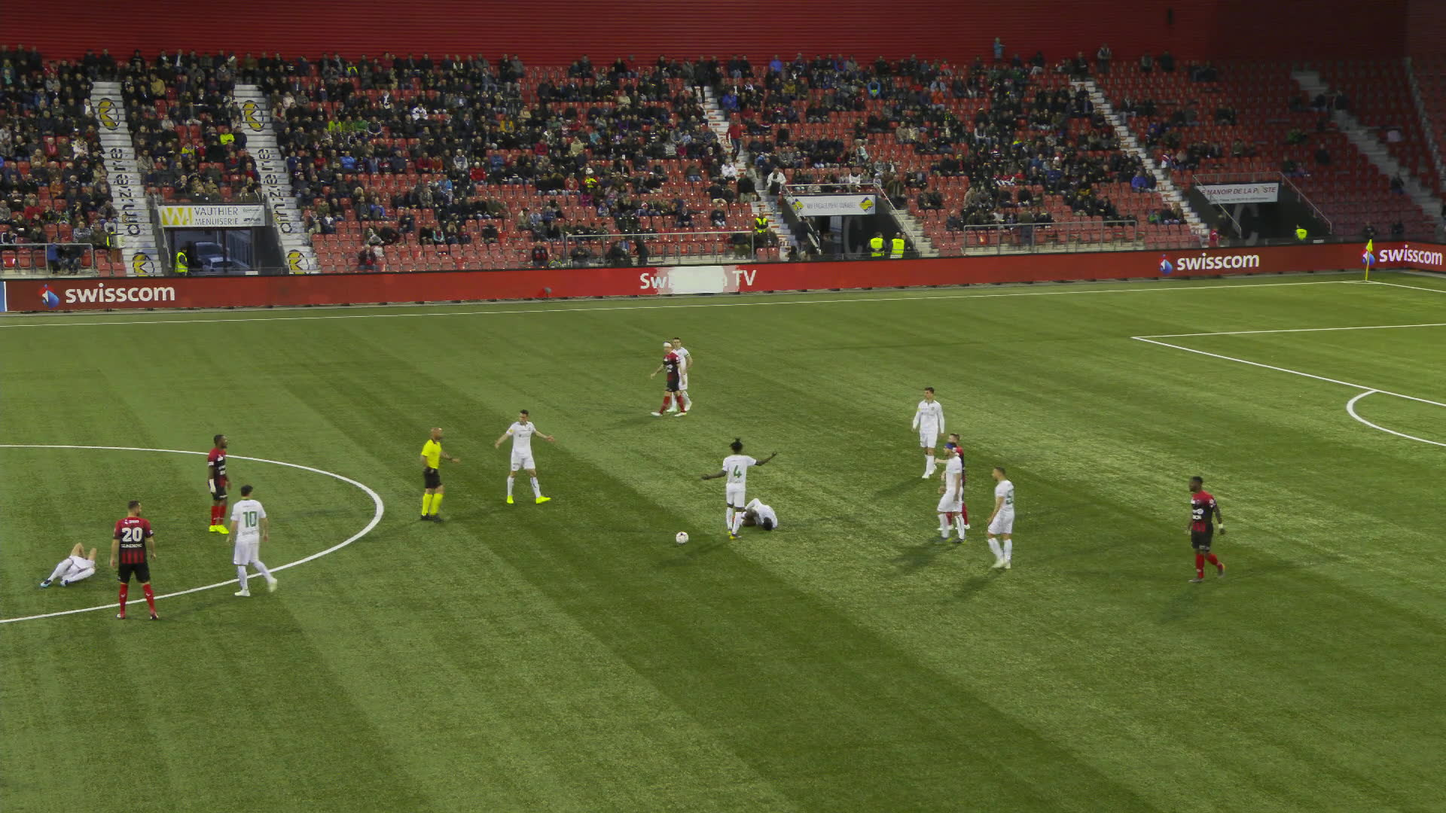ball: (676, 531, 688, 541)
player: (700, 437, 780, 539), (108, 498, 159, 622), (493, 408, 554, 504), (225, 484, 277, 595), (1181, 475, 1231, 583), (929, 441, 970, 545), (933, 432, 975, 529), (981, 467, 1020, 569), (201, 432, 236, 533), (912, 385, 944, 480), (652, 341, 688, 416), (41, 542, 99, 586), (667, 338, 693, 413), (726, 498, 779, 531)
referee: (411, 428, 460, 521)
